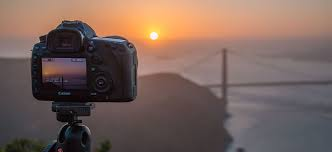camera: (31, 20, 136, 102)
